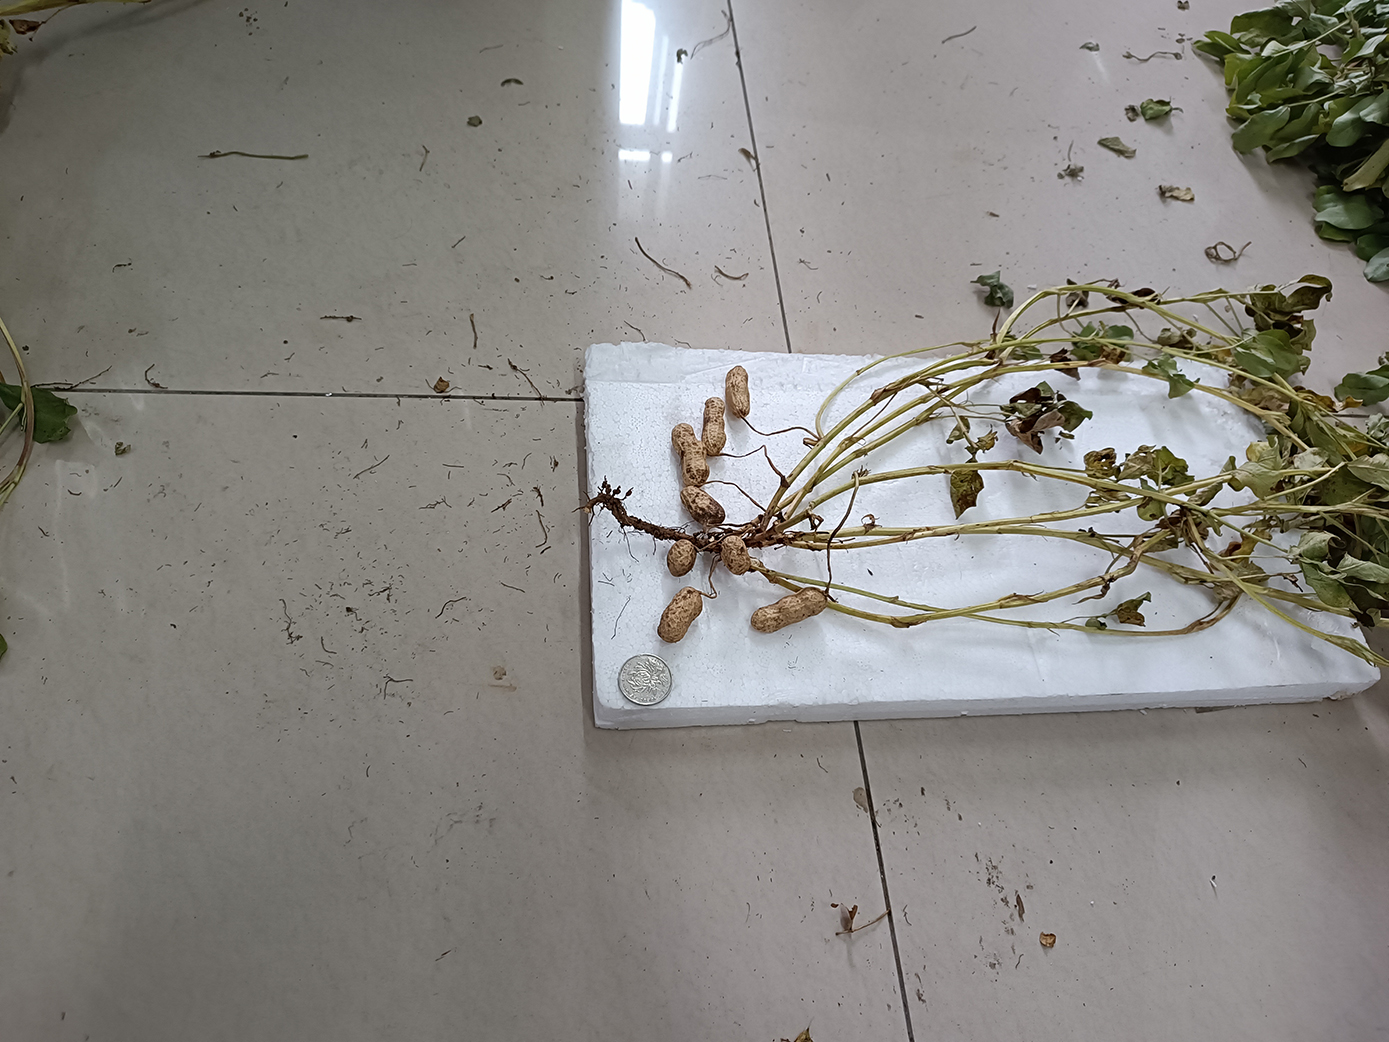h: (750, 586, 829, 633), (656, 586, 702, 644), (671, 422, 711, 486), (680, 485, 726, 526), (725, 366, 751, 418), (703, 398, 726, 458), (719, 535, 750, 575), (668, 539, 697, 578)
